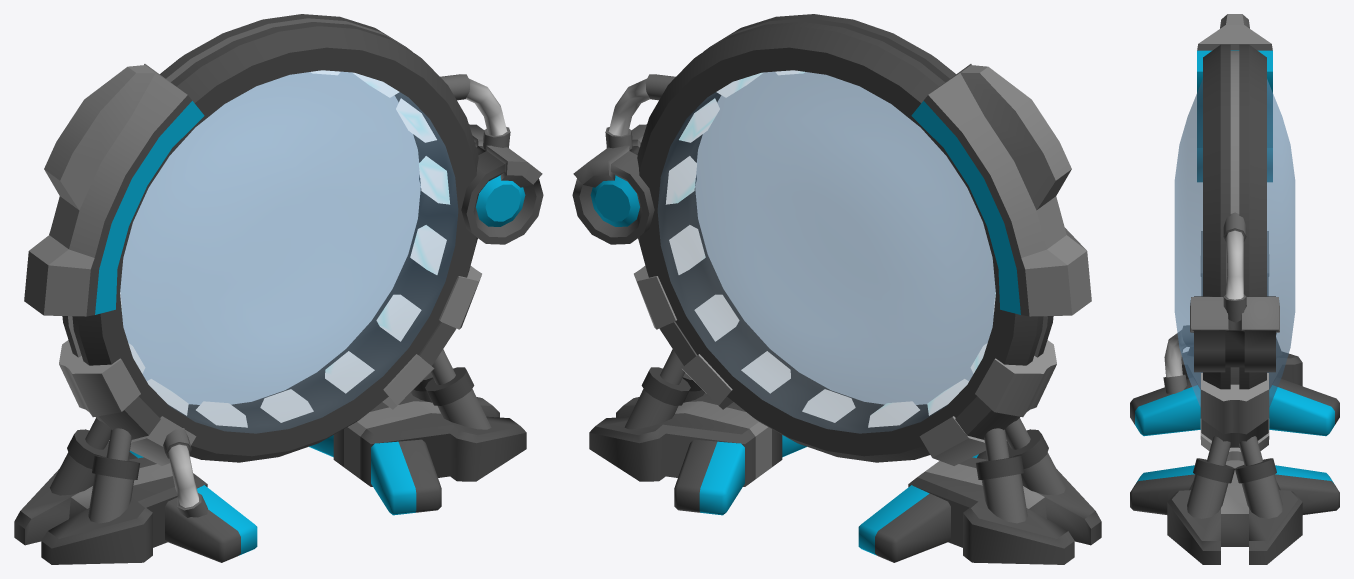
Rendered from Portal.fbx.
3 views of the same model, side by side, from view 1: azimuth 30°, elevation 25°; view 2: azimuth 150°, elevation 25°; view 3: azimuth 270°, elevation 25° (orthographic). The views are drawn at different scales.
Parts seen in each view (by area): view 1: Portal; view 2: Portal; view 3: Portal.
Boxes of the visible parts, <box> form: Portal: <box>14,14,543,564</box>; Portal: <box>572,14,1101,564</box>; Portal: <box>1130,14,1339,564</box>.
Size of the model in its own units: 1509 by 1386 by 656.
